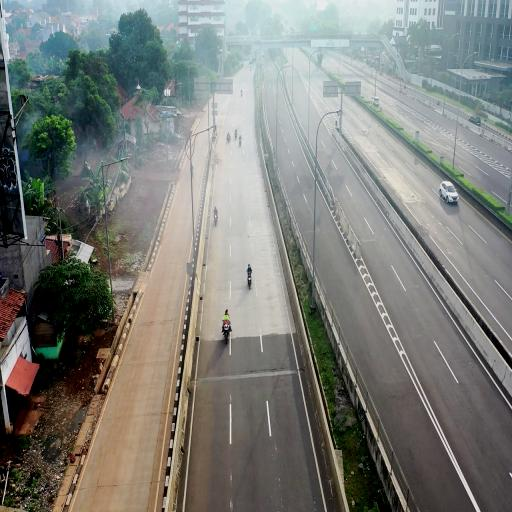vehicle: (439, 181, 458, 207)
